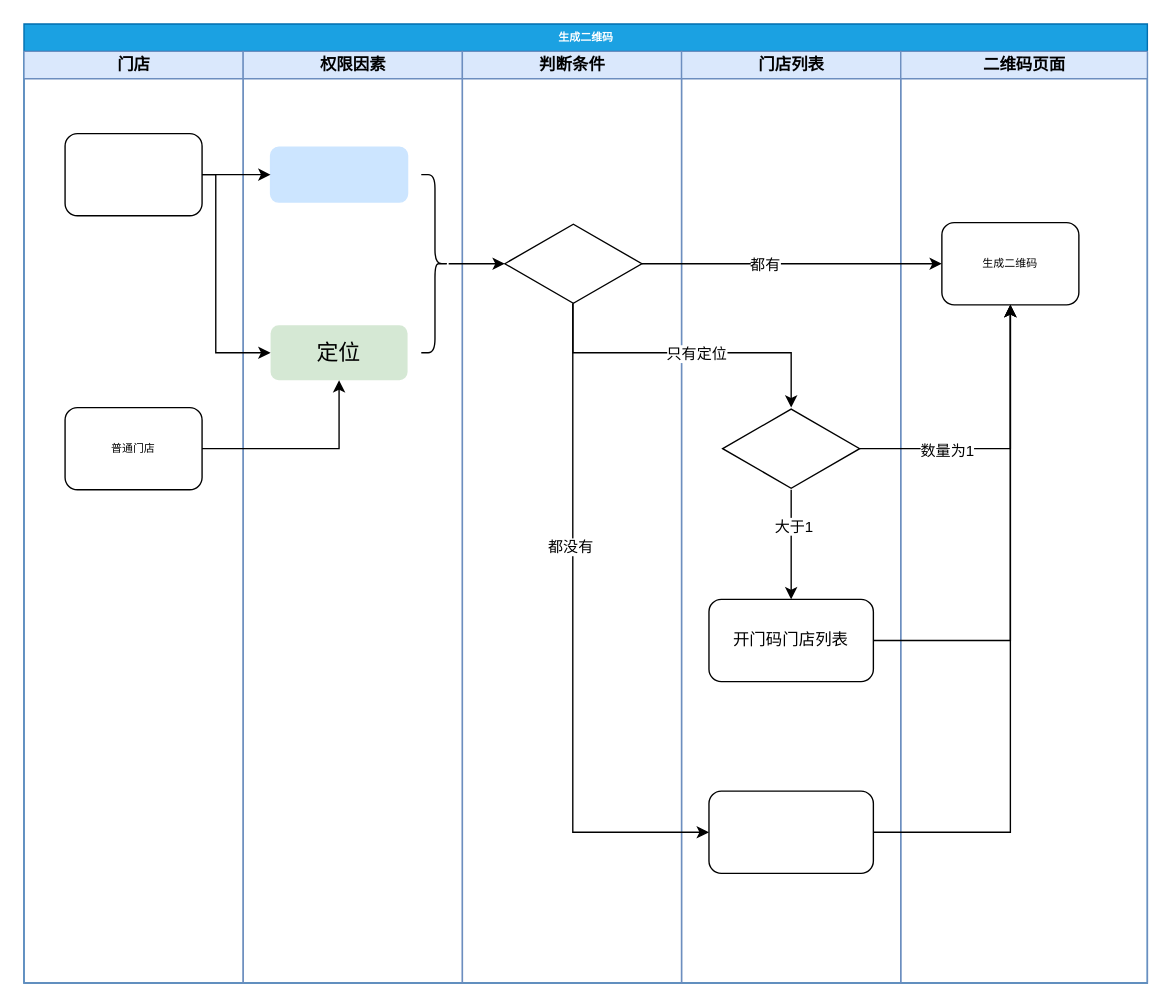
This 1171x1007 diagram has some shape labels left out. The centre of each missing label's shape, as x and y in pixels:
"是否具备" belongs at [572,263].
"测试门店" belongs at [133,174].
"蓝牙" belongs at [338,174].
"门店列表页" belongs at [790,831].
"附近门店数量" belongs at [790,448].
